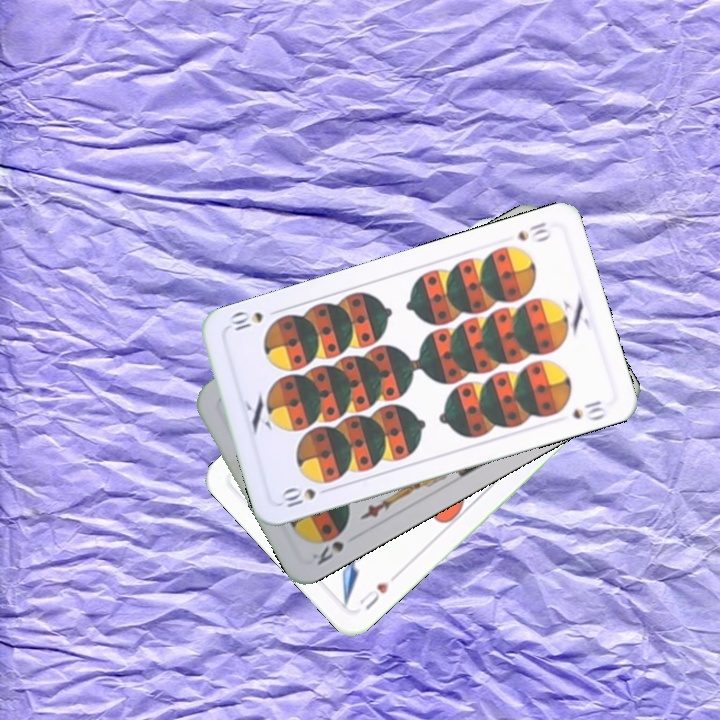HU: (355, 578, 392, 613)
S10: (276, 483, 335, 510), (514, 218, 554, 244)
SK: (308, 537, 347, 568)
